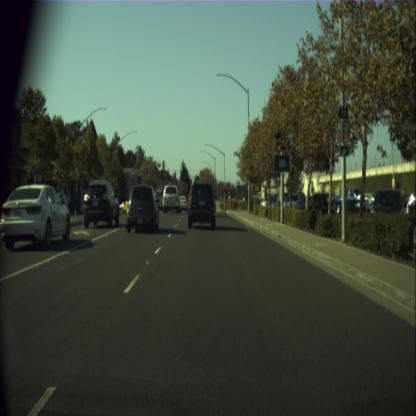Green: (224, 188, 226, 196), (184, 172, 186, 180), (196, 176, 198, 183), (214, 189, 216, 195)
